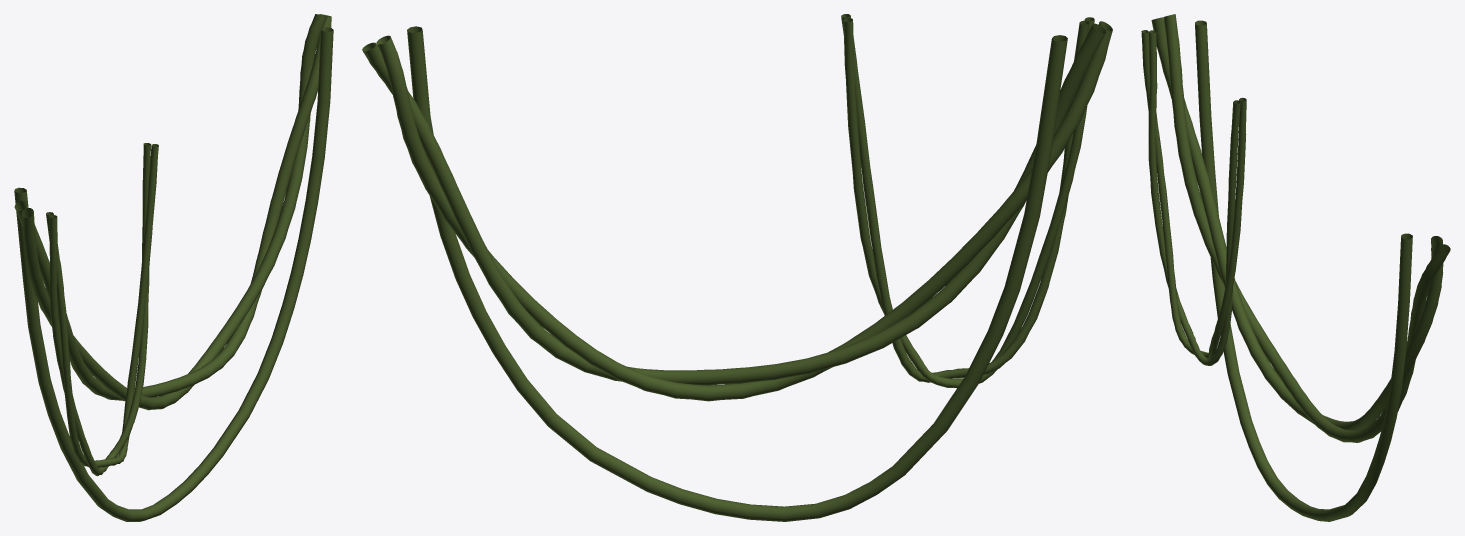
File: futoi_tuta.fbx
3 renders of one model, left to right at view 1: azimuth 30°, elevation 25°; view 2: azimuth 150°, elevation 25°; view 3: azimuth 270°, elevation 25°, orthographic. The views are drawn at different scales.
Visible parts, largest first — view 1: futoi_tuta; view 2: futoi_tuta; view 3: futoi_tuta.
Part boxes in pixels (x1=…): futoi_tuta: x1=14, y1=14, x2=333, y2=521; futoi_tuta: x1=362, y1=14, x2=1112, y2=521; futoi_tuta: x1=1141, y1=14, x2=1450, y2=521.
Size of the model in its own units: 972 by 823 by 583.
